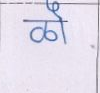o_matra: (55, 9, 69, 43)
